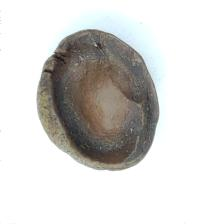NG: (49, 33, 149, 164)
